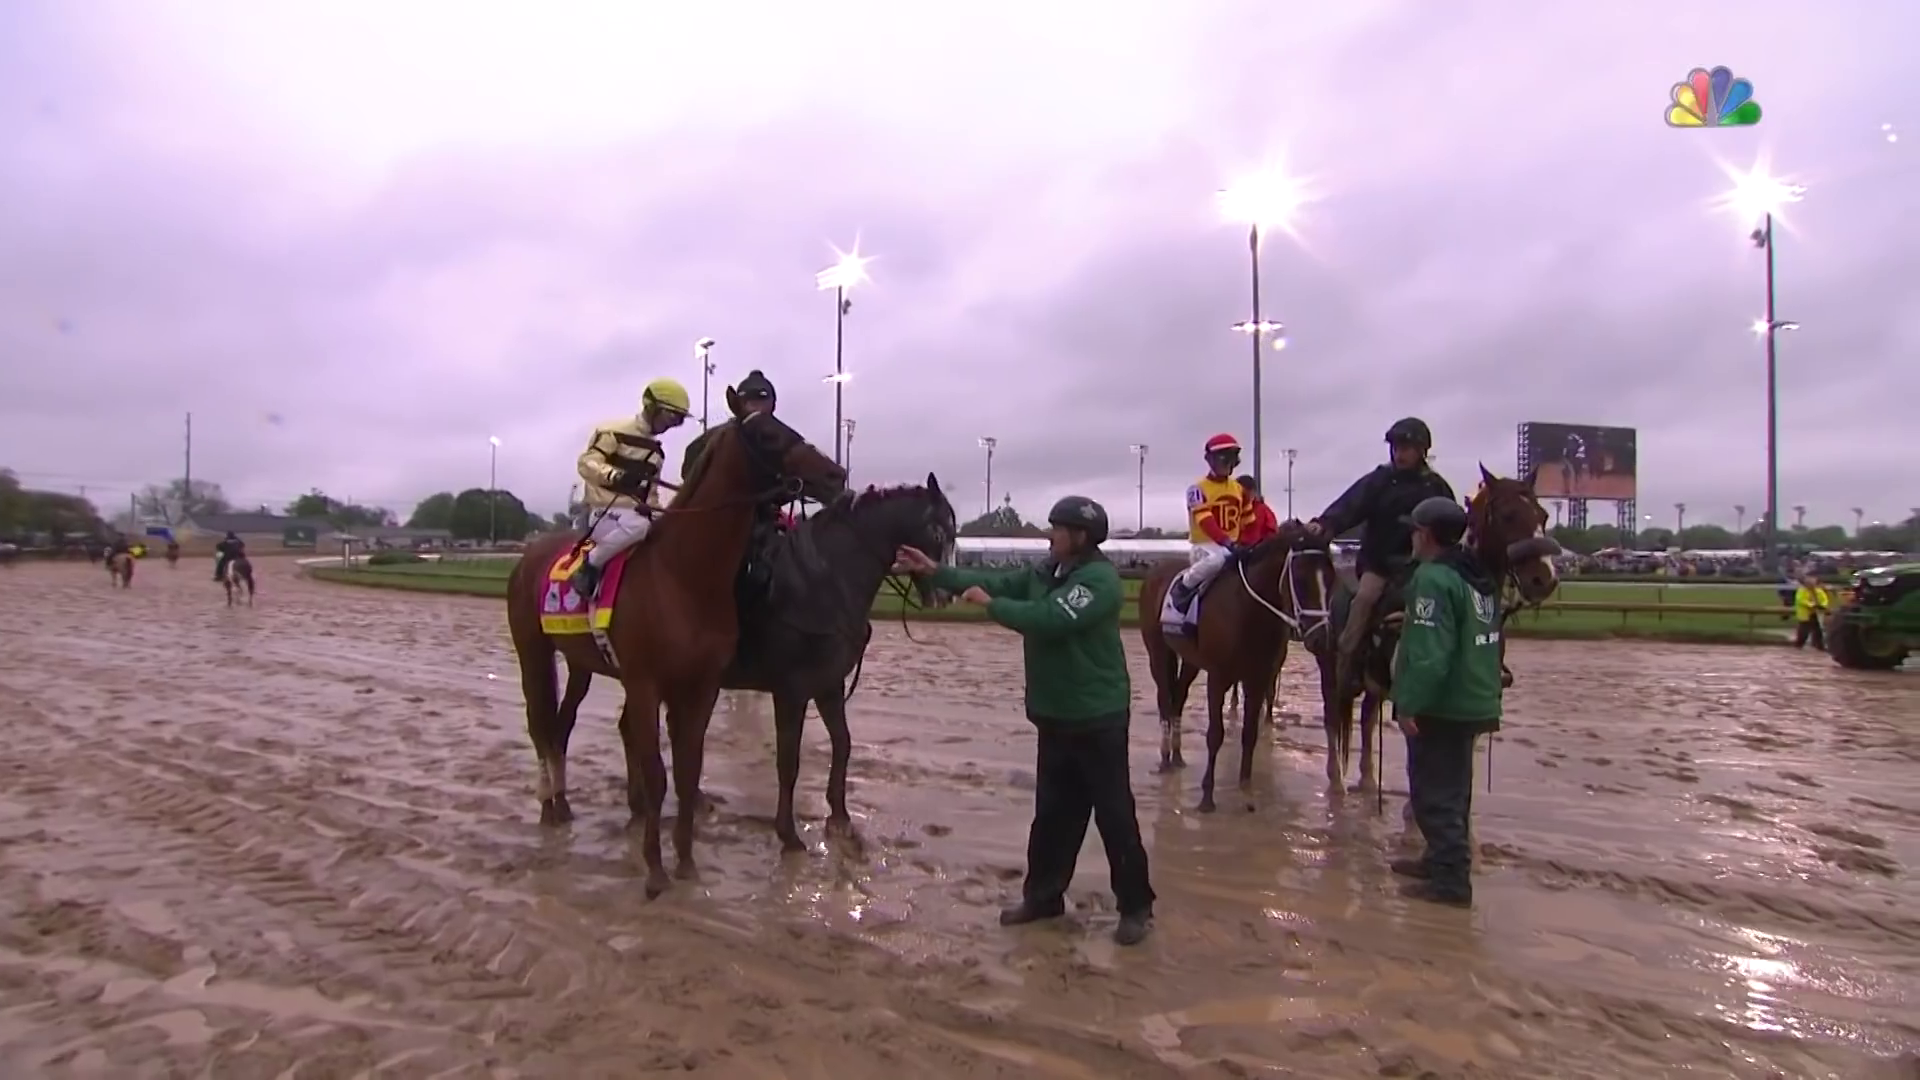jockey: (1313, 422, 1461, 666), (574, 381, 698, 609), (1176, 436, 1257, 615)
